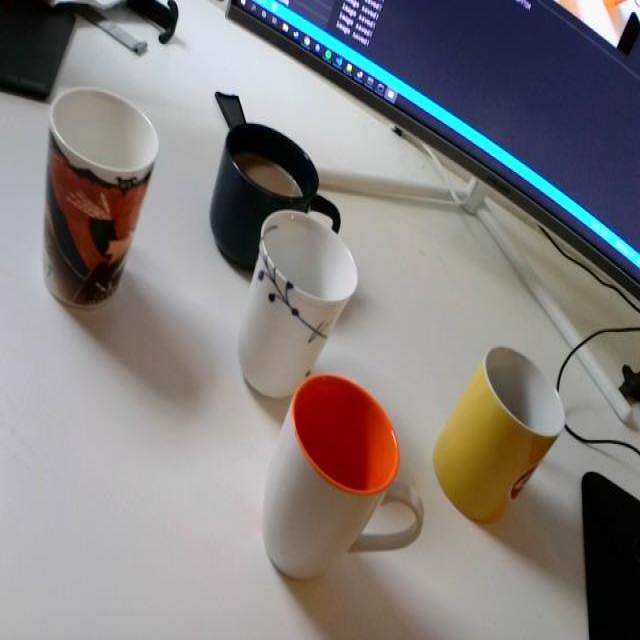cup: (256, 355, 426, 590), (434, 318, 570, 540), (37, 67, 156, 320), (231, 193, 360, 405), (194, 103, 346, 280)
